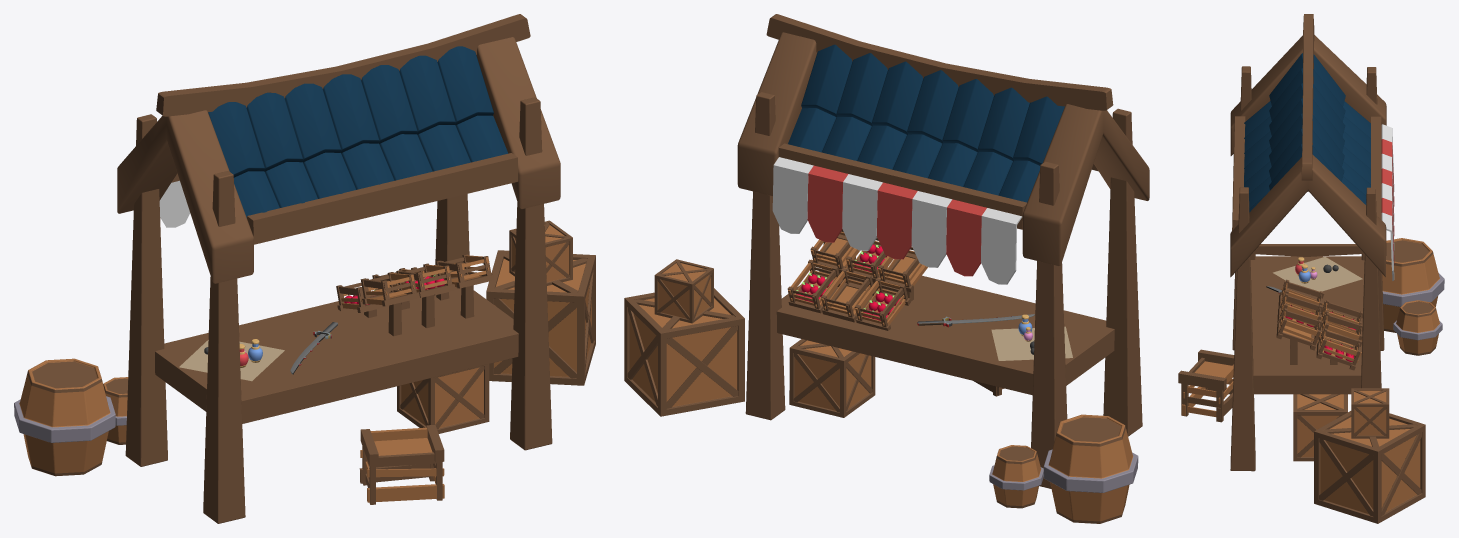
The model's file is Shop.fbx.
3 views of the same model, side by side, from view 1: azimuth 30°, elevation 25°; view 2: azimuth 150°, elevation 25°; view 3: azimuth 270°, elevation 25° (orthographic). The views are drawn at different scales.
Visible parts, largest first — view 1: Strong_Katana; view 2: Strong_Katana; view 3: Strong_Katana.
Part boxes in pixels (<box>): Strong_Katana: <box>14,14,595,523</box>; Strong_Katana: <box>624,14,1149,523</box>; Strong_Katana: <box>1178,14,1444,523</box>.
Bounding box in the file's own units: 6055 × 4109 × 3069.
